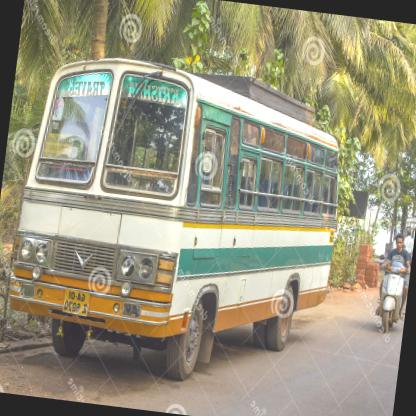bus: (152, 6, 387, 180)
motorcycle: (406, 103, 415, 155)
